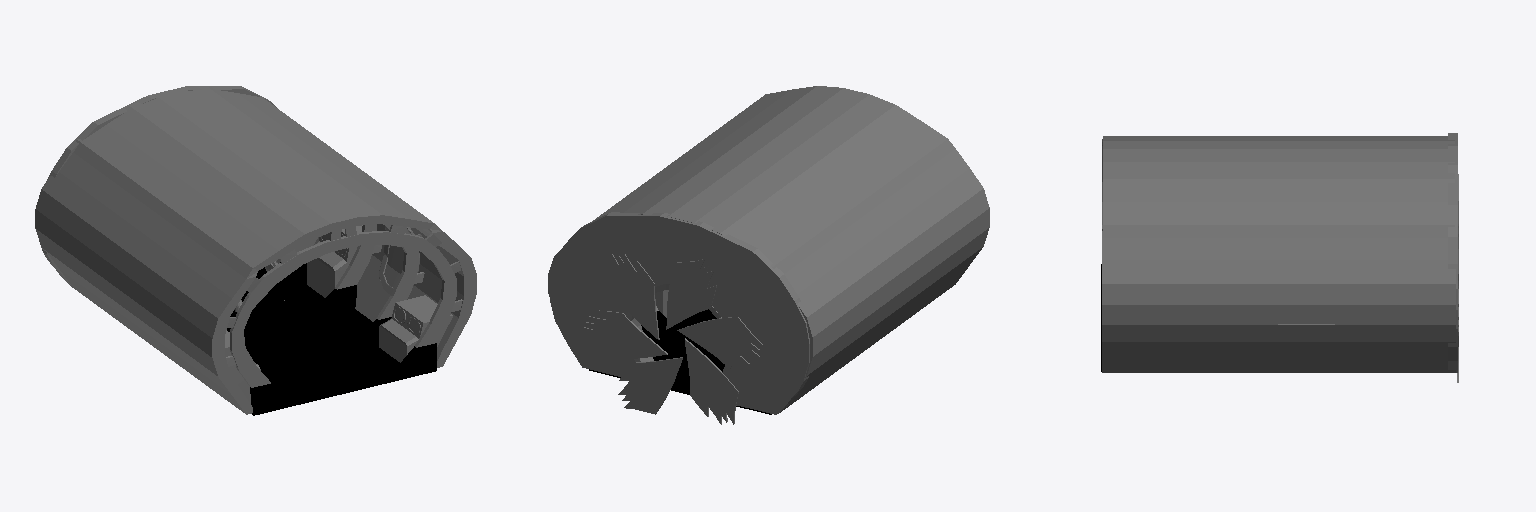
The model's file is full_set_v1.obj.
3 views of the same model, side by side, from view 1: azimuth 30°, elevation 25°; view 2: azimuth 150°, elevation 25°; view 3: azimuth 270°, elevation 25° (orthographic).
Parts seen in each view (by area): view 1: exterior, floor, arch arches, trueTerminal terminalAndMonitor, trueTerminal terminalAndMonitor4, back_wall, arches arch1, arches arch2, window1; view 2: exterior, back_wall, Door door_piece5, door_piece1 Door, Door door_piece2, Door door_piece4, Door door_piece6, Door door_piece3, floor; view 3: exterior, back_wall.
Part boxes in pixels (x1,y1,x2,y2): exterior: (35,87,476,414); floor: (227,263,436,415); arch arches: (226,225,462,387); trueTerminal terminalAndMonitor: (379,295,452,362); trueTerminal terminalAndMonitor4: (307,225,362,297); back_wall: (42,86,276,284); arches arch1: (376,224,424,319); arches arch2: (335,224,381,289); window1: (379,226,419,294); exterior: (548,86,989,413); back_wall: (549,212,809,414); Door door_piece5: (685,338,738,424); door_piece1 Door: (582,310,667,358); Door door_piece2: (606,254,659,339); Door door_piece4: (677,317,762,364); Door door_piece6: (618,357,682,414); Door door_piece3: (666,259,716,329); floor: (589,309,771,414); exterior: (1102,136,1455,372); back_wall: (1448,133,1457,372).
Size of the model in its own units: 1313 by 948 by 1536.